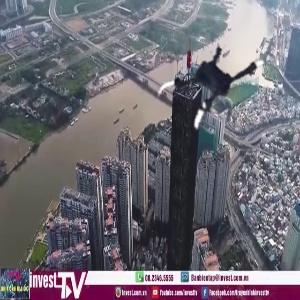drone: (155, 32, 273, 150)
